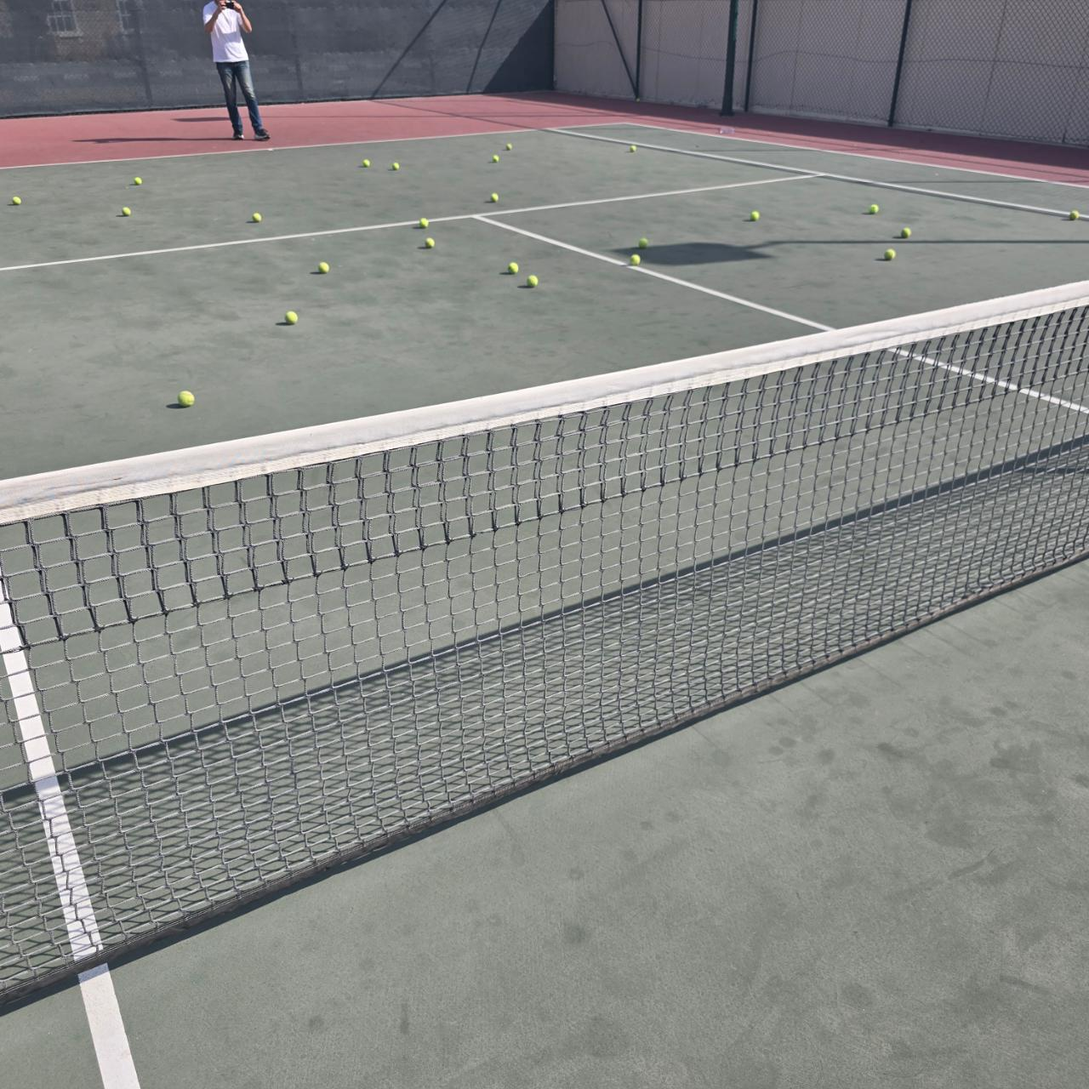tennis-ball: (177, 388, 194, 407), (284, 310, 299, 326), (525, 272, 539, 287), (883, 249, 897, 262), (628, 252, 641, 265), (506, 259, 518, 273), (317, 259, 329, 272), (900, 227, 912, 239), (749, 209, 760, 221), (424, 236, 435, 248), (868, 203, 879, 214), (1068, 210, 1080, 220), (638, 237, 648, 249), (251, 212, 262, 222), (489, 192, 499, 203), (419, 218, 429, 228), (122, 207, 131, 217), (12, 196, 22, 205), (629, 144, 637, 153), (134, 176, 142, 185), (362, 159, 370, 167), (392, 163, 399, 171), (505, 143, 512, 151), (492, 155, 499, 162), (636, 98, 640, 101)
